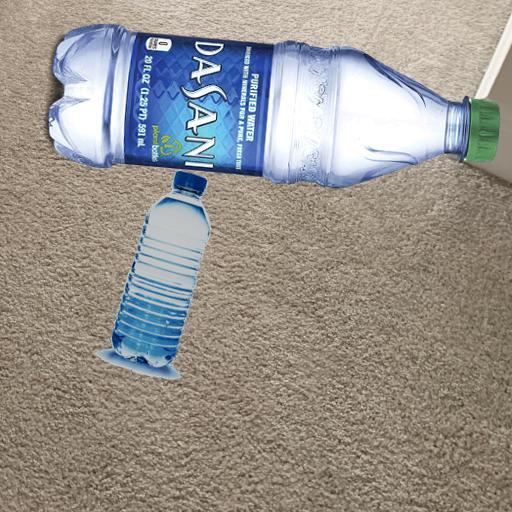bottle: (82, 145, 217, 374), (33, 96, 505, 100)
